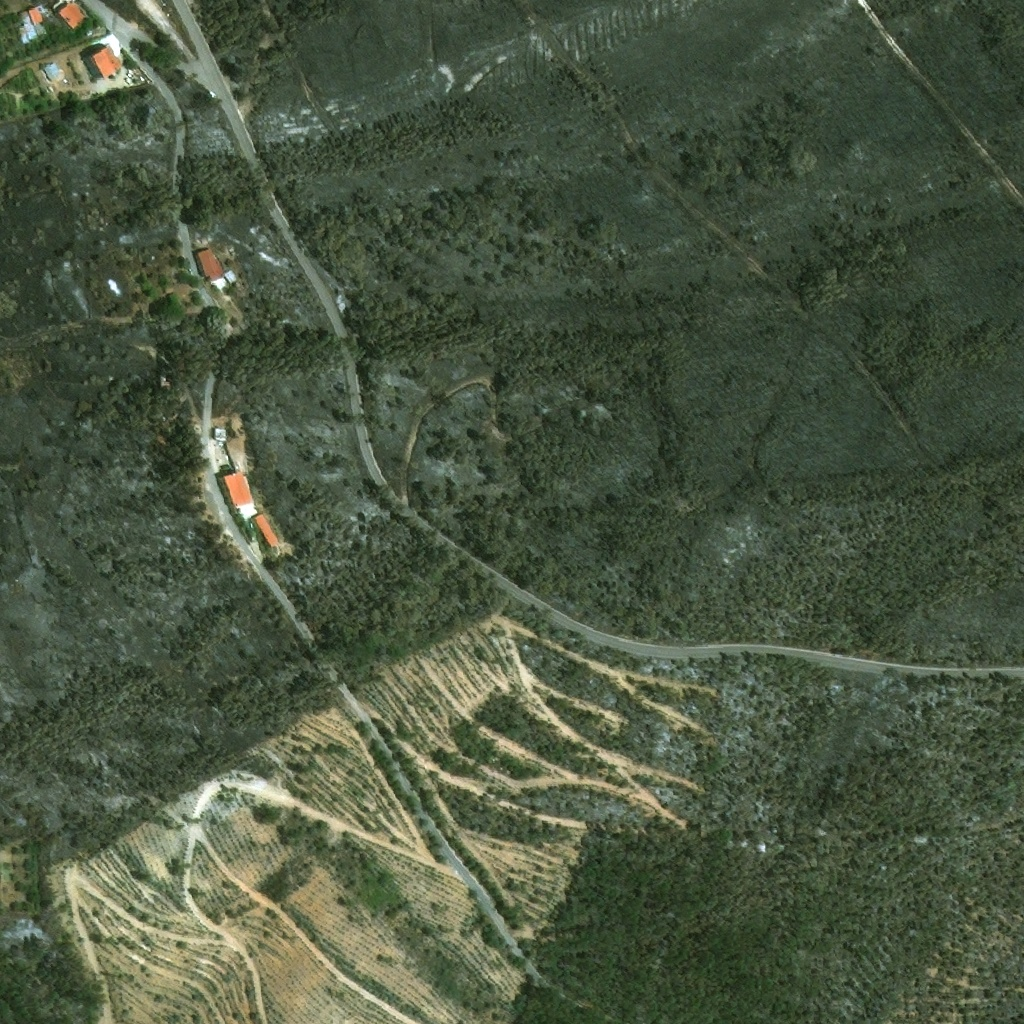0 no-damage: (82, 42, 123, 78), (218, 469, 254, 508), (17, 4, 49, 45), (250, 513, 280, 551), (53, 0, 90, 29), (195, 244, 225, 278), (45, 61, 62, 82), (223, 269, 238, 284), (213, 427, 227, 442)
